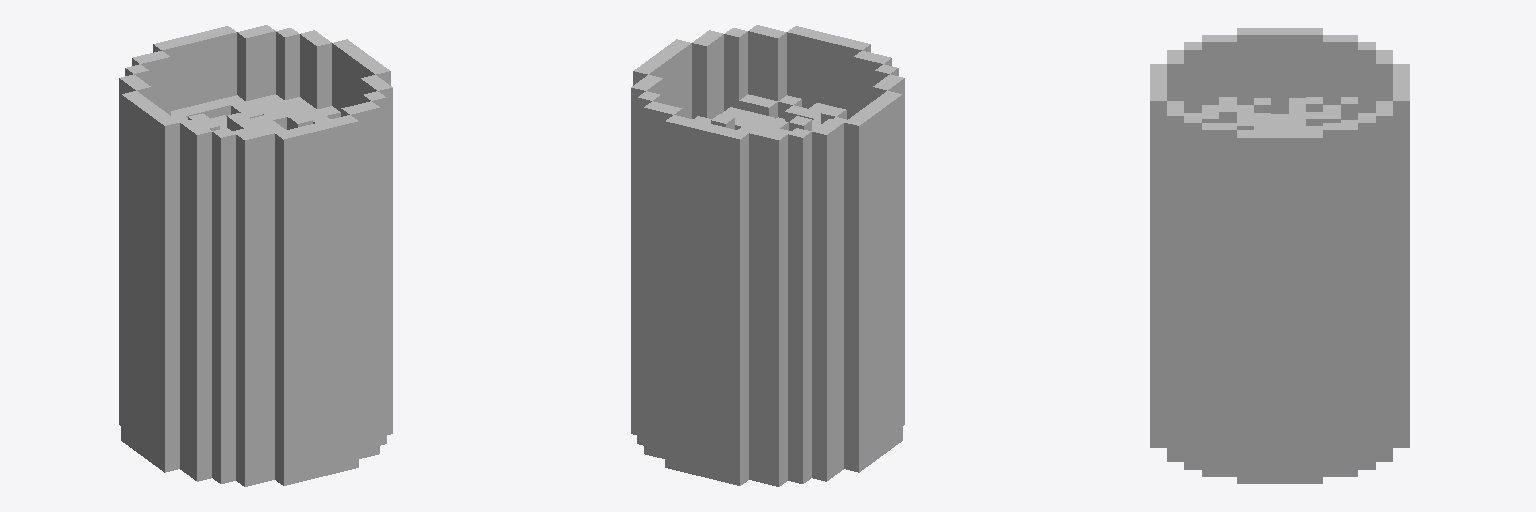
Rendered from Street Trash.obj.
The picture shows the model from 3 angles: view 1: azimuth 30°, elevation 25°; view 2: azimuth 150°, elevation 25°; view 3: azimuth 270°, elevation 25°; orthographic projection.
Visible parts, largest first — view 1: object 1; view 2: object 1; view 3: object 1.
Boxes of the visible parts, box(x1,y1,x2,y2) form: object 1: box(119, 25, 392, 486); object 1: box(631, 25, 904, 486); object 1: box(1150, 28, 1409, 483).
Bounding box in the file's own units: 1.5 × 2.2 × 1.5.